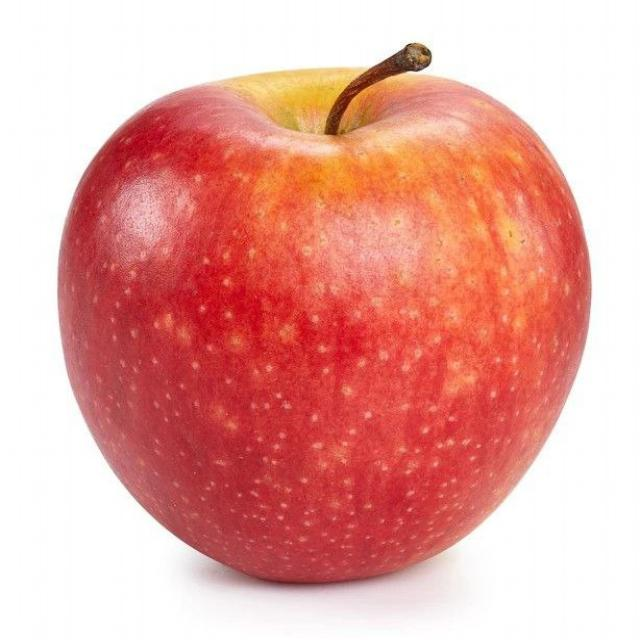Fresh Apple: (56, 70, 582, 587)
